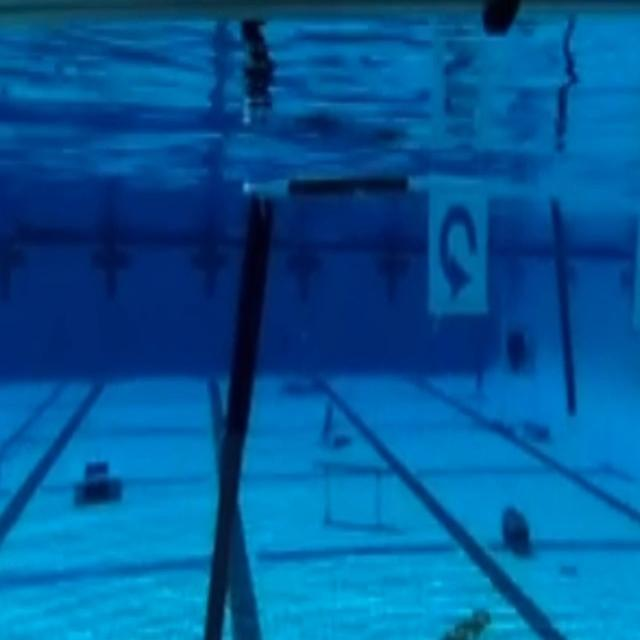Gate: (194, 151, 640, 640)
